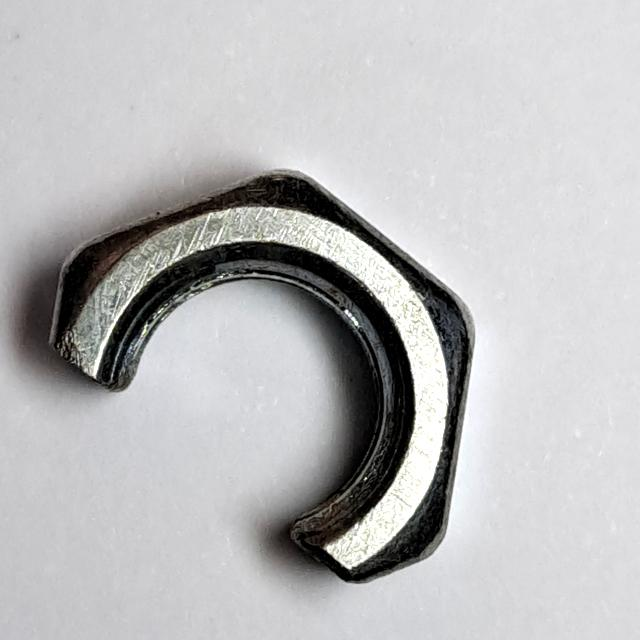Fracture: (36, 162, 488, 598)
